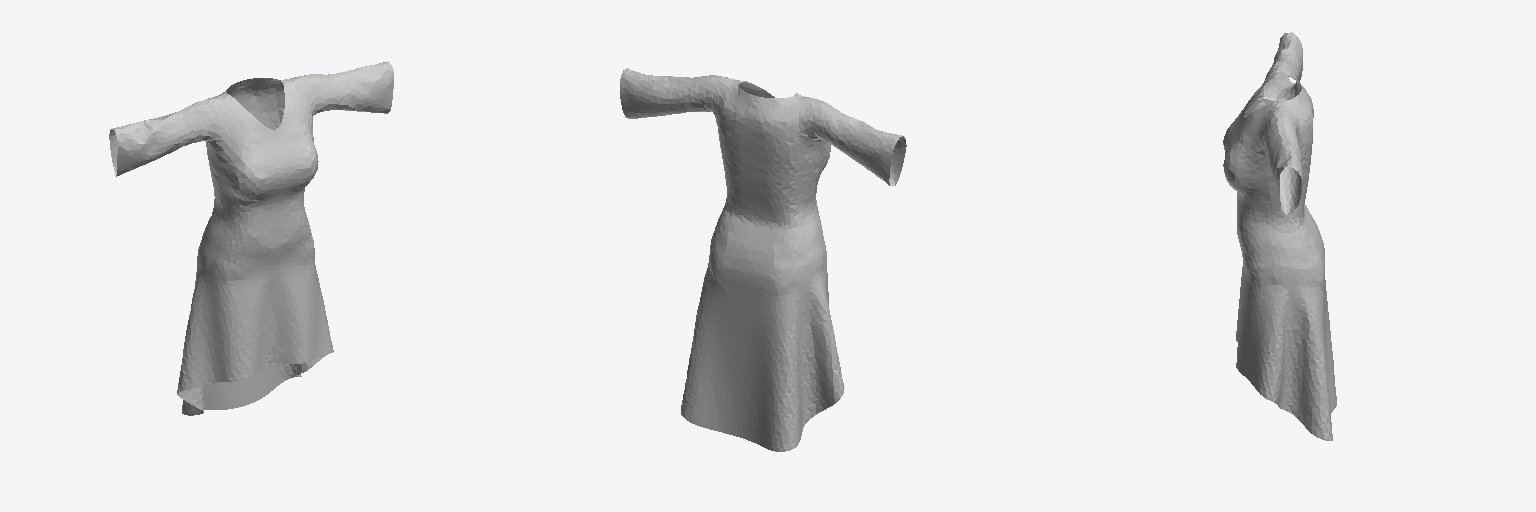
File: small_loosePaisleyThinUnWeld.obj
3 renders of one model, left to right at view 1: azimuth 30°, elevation 25°; view 2: azimuth 150°, elevation 25°; view 3: azimuth 270°, elevation 25°, orthographic.
Bounding box in the file's own units: 847 × 983 × 301.